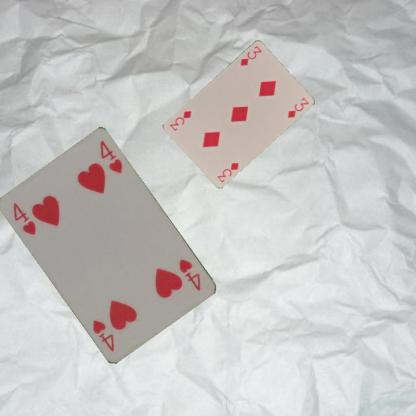3d: (237, 43, 263, 67), (215, 160, 240, 183)
4h: (10, 200, 38, 236), (177, 256, 202, 293)
